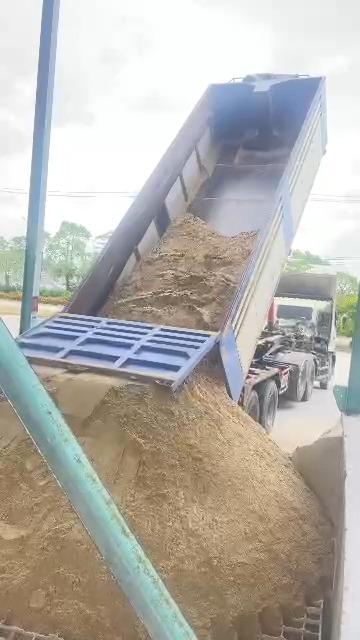sand: (48, 373, 331, 639), (67, 376, 330, 637), (0, 432, 145, 639), (1, 440, 146, 639), (101, 214, 256, 329), (106, 216, 254, 328), (293, 426, 342, 522), (0, 402, 25, 450), (69, 377, 95, 413), (53, 379, 56, 396)
